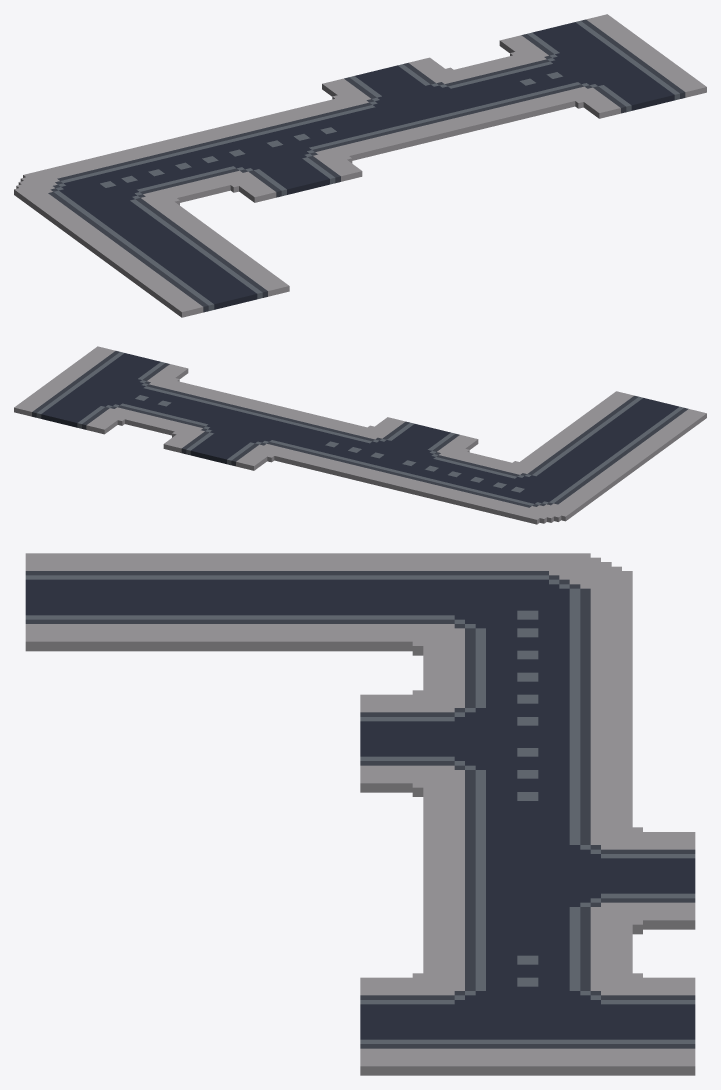
Rendered from Road(1)-0-road 1.obj.
The picture shows the model from 3 angles, top to bottom: view 1: azimuth 30°, elevation 25°; view 2: azimuth 150°, elevation 25°; view 3: azimuth 270°, elevation 25°; orthographic projection. The views are drawn at different scales.
Parts seen in each view (by area): view 1: road 1; view 2: road 1; view 3: road 1.
Part boxes in pixels (<box>): road 1: <box>14,14,706,317</box>; road 1: <box>14,346,706,524</box>; road 1: <box>25,553,695,1075</box>.
Bounding box in the file's own units: 11.6 × 0.1 × 6.4.
1 material, 1 textured.
